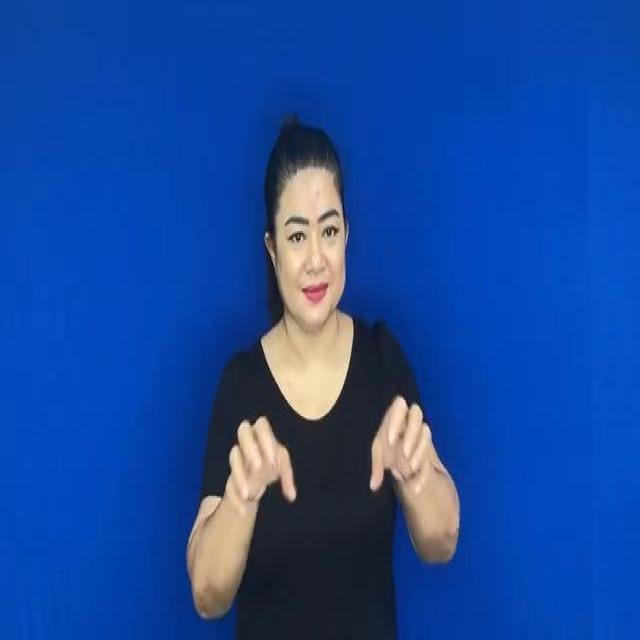egg: (213, 376, 443, 539)
